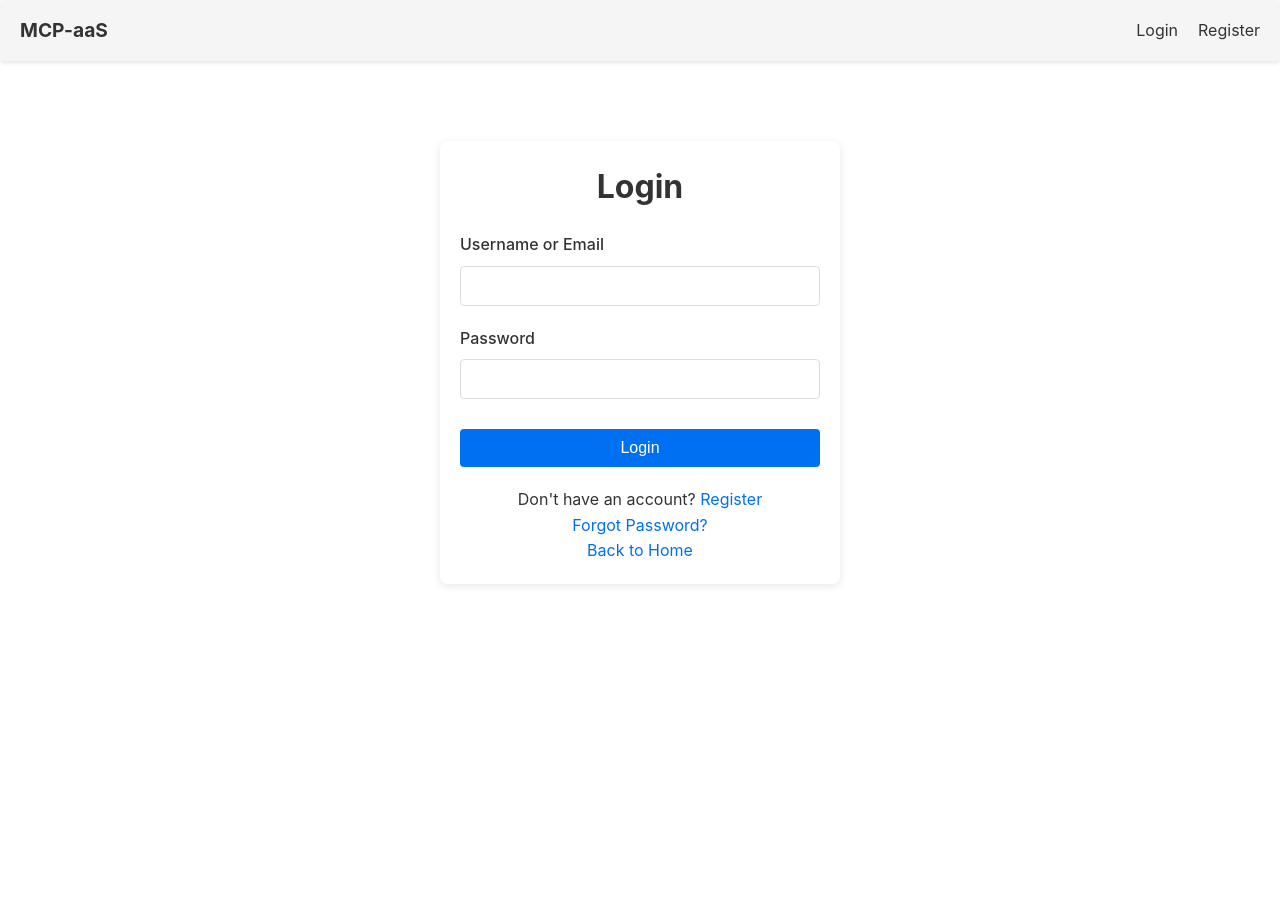
Scenario: Login Component › should validate form fields before submission
Try to submit the form without filling required fields
Click the button "Login" at (640, 448), box [460,429,820,467]
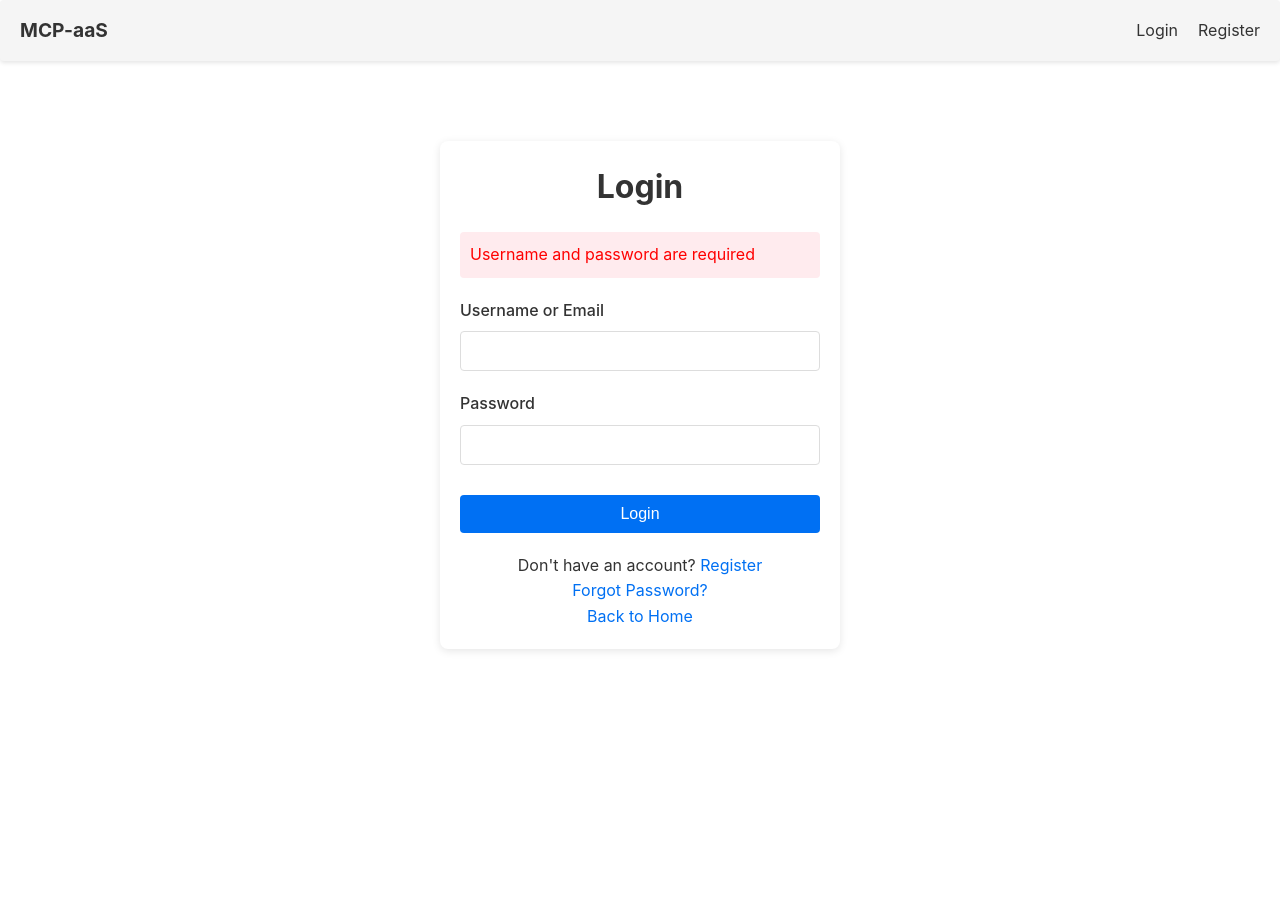
Check: the text "Username and password are required" is shown, box [460,232,820,278]
